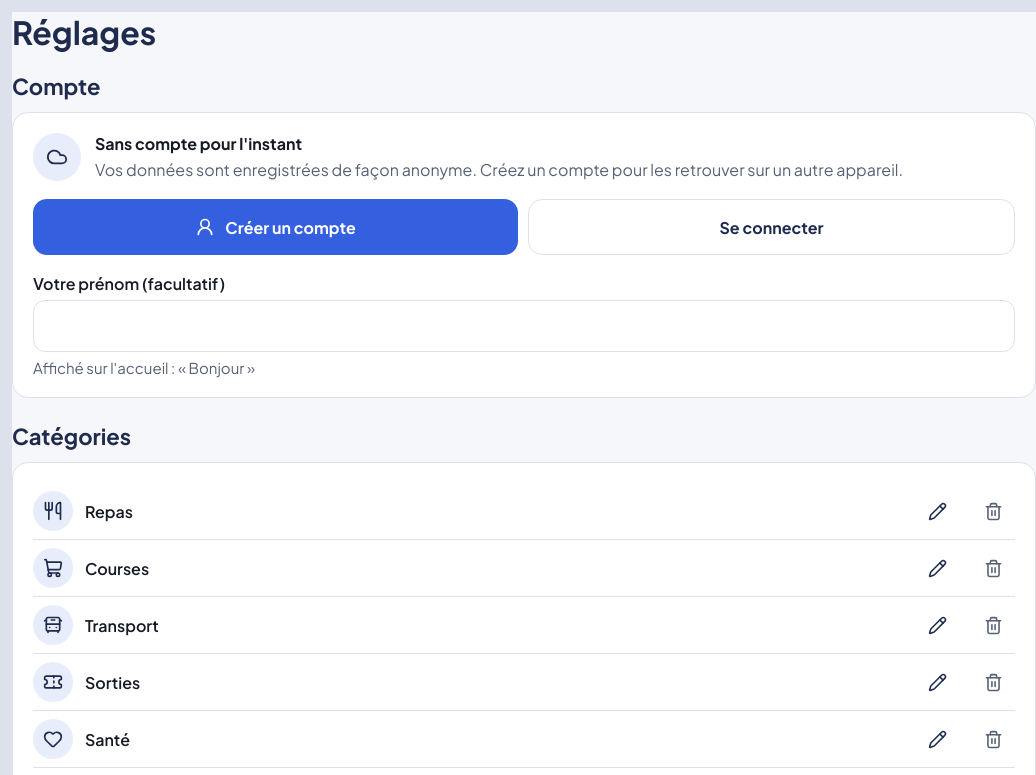
Réglages › prénom : enregistré en quittant le champ, espaces retirés, message
This screenshot has width=1036, height=775.
Type "  Yasmine " into the field labelled "Votre prénom (facultatif)" at (524,326), box [33,300,1015,352]
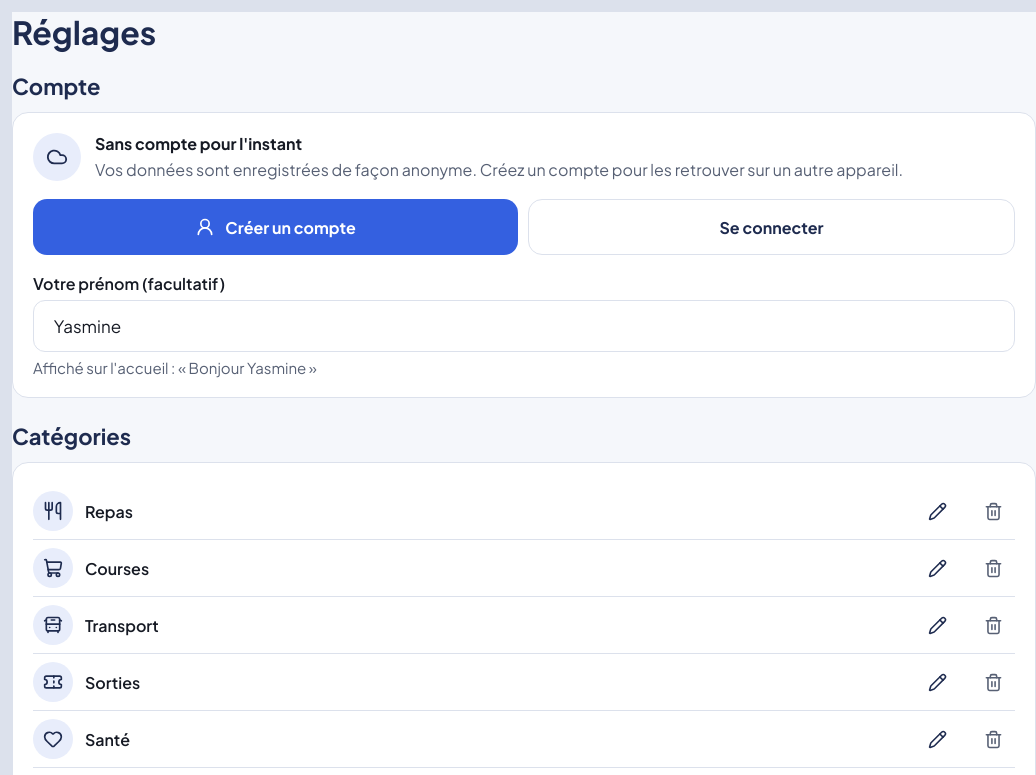
Leave the field labelled "Votre prénom (facultatif)", box [33,300,1015,352]
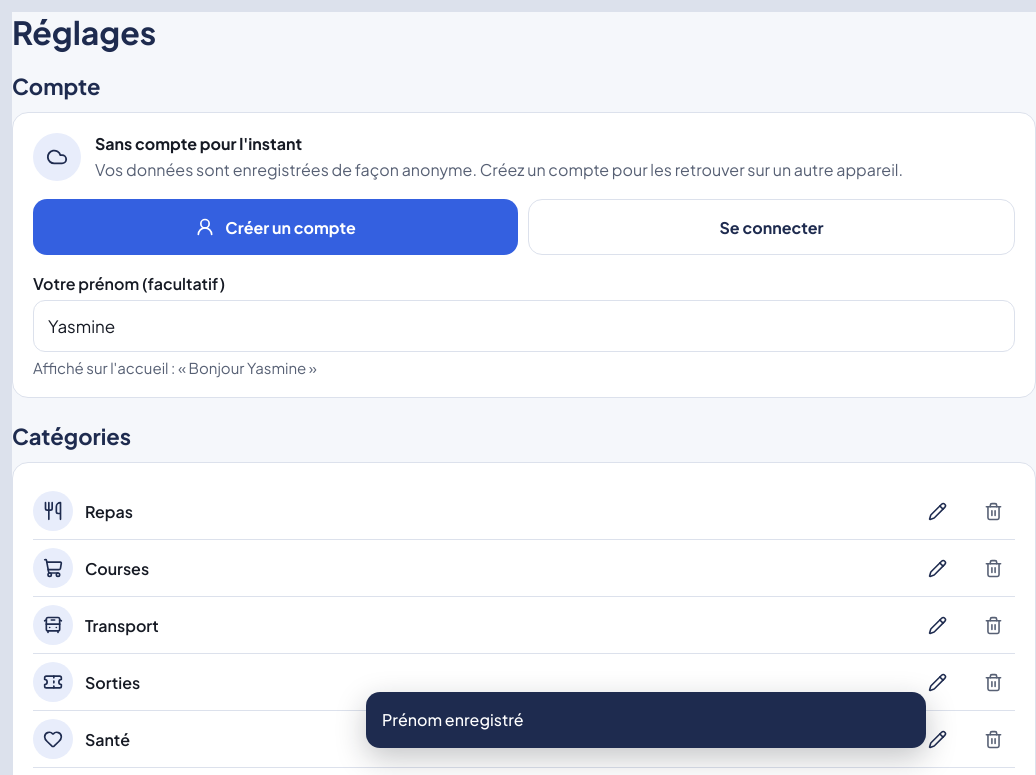
Expected: the message reads "Prénom enregistré", [382,709,524,730]
